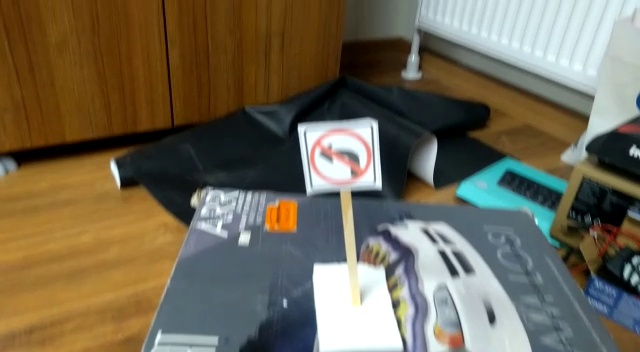sola_donulmez: (308, 123, 372, 189)
